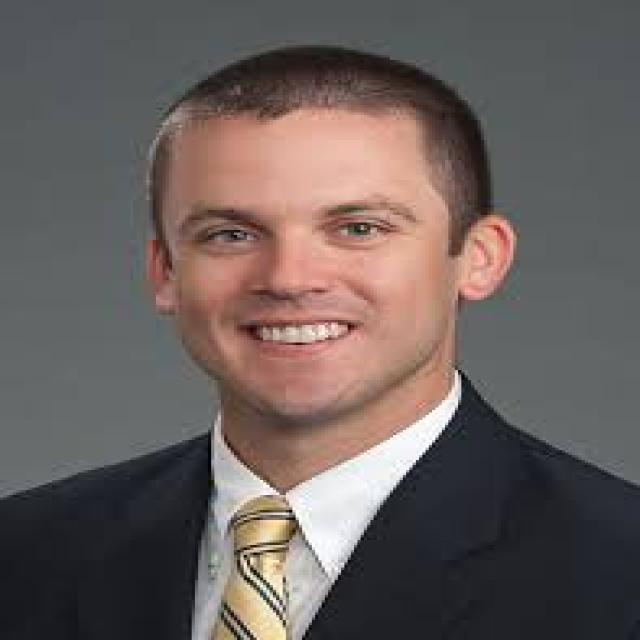normal_face: (70, 72, 548, 423)
